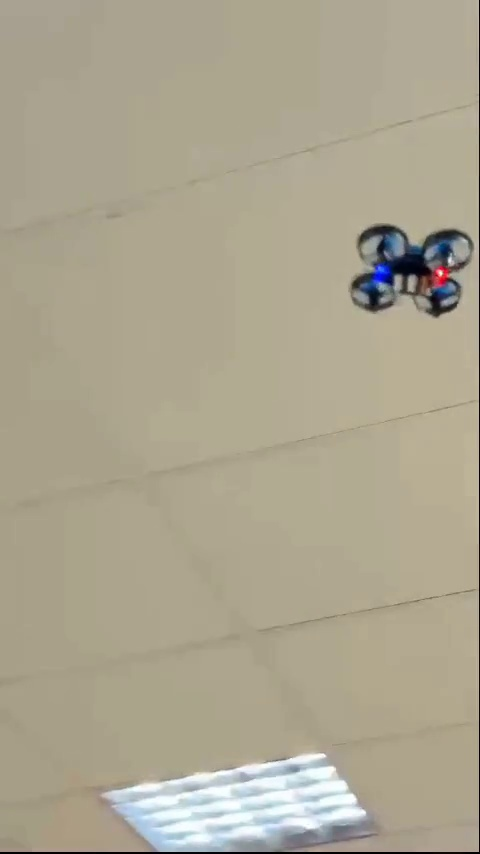drone: (351, 225, 472, 315)
